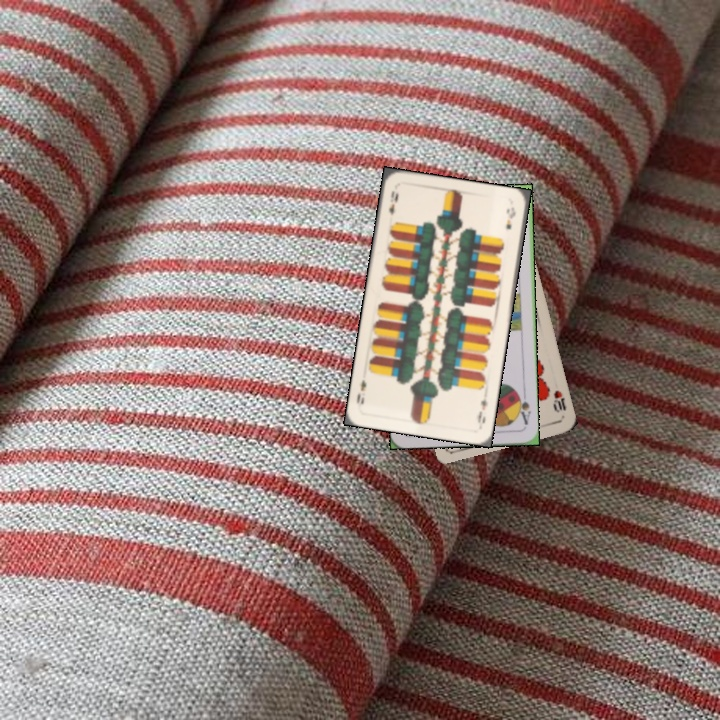E9: (473, 394, 490, 426), (385, 187, 401, 218)
H10: (549, 386, 569, 415)
SA: (513, 388, 533, 427)
